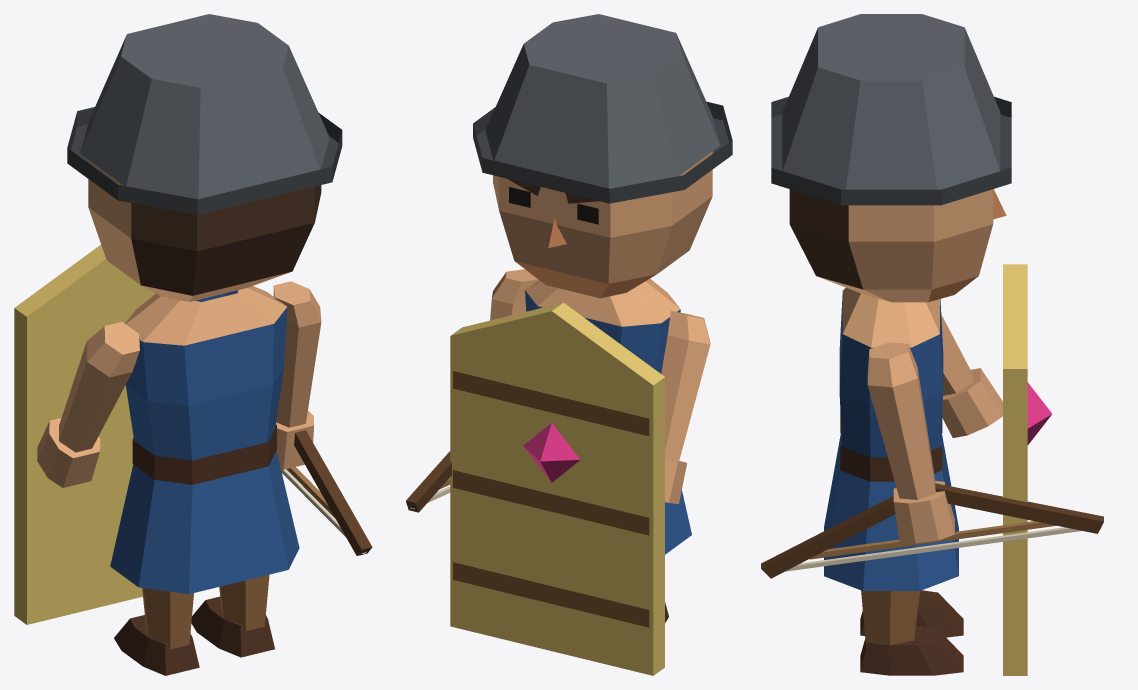
Rendered from EN_ShieldArcher.fbx.
3 renders of one model, left to right at view 1: azimuth 30°, elevation 25°; view 2: azimuth 150°, elevation 25°; view 3: azimuth 270°, elevation 25°, orthographic. The views are drawn at different scales.
Parts seen in each view (by area): view 1: Head, Body, ArmL, ArmR, LegL, LegR; view 2: ArmL, Head, Body, ArmR; view 3: Head, Body, ArmR, ArmL, LegR, LegL.
Part boxes in pixels (x1,y1,x2,y2): Head: (67, 14, 342, 301); Body: (110, 286, 299, 594); ArmL: (14, 244, 155, 624); ArmR: (273, 281, 372, 555); LegL: (114, 588, 199, 675); LegR: (191, 575, 274, 657); ArmL: (450, 302, 710, 675); Head: (473, 14, 732, 298); Body: (525, 278, 691, 554); ArmR: (406, 269, 538, 512); Head: (771, 14, 1011, 302); Body: (824, 287, 958, 590); ArmR: (761, 342, 1103, 578); ArmL: (941, 264, 1051, 675); LegR: (860, 590, 963, 675); LegL: (860, 590, 963, 637).
Bounding box in the file's own units: 0.5166 × 0.6762 × 1.23.
